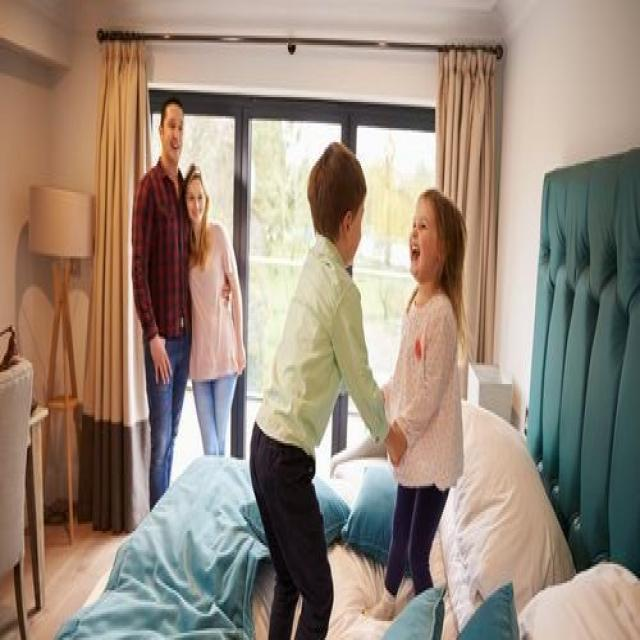adult: (135, 98, 190, 507), (181, 155, 246, 463)
child: (251, 140, 398, 640), (384, 182, 464, 600)
